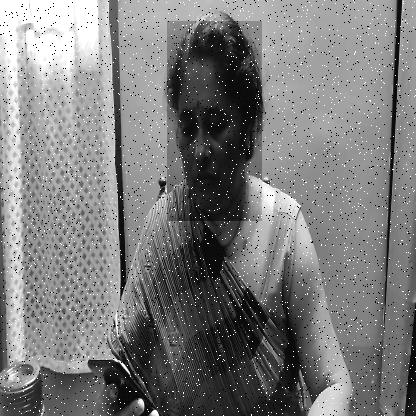Distracted: (167, 22, 262, 222)
